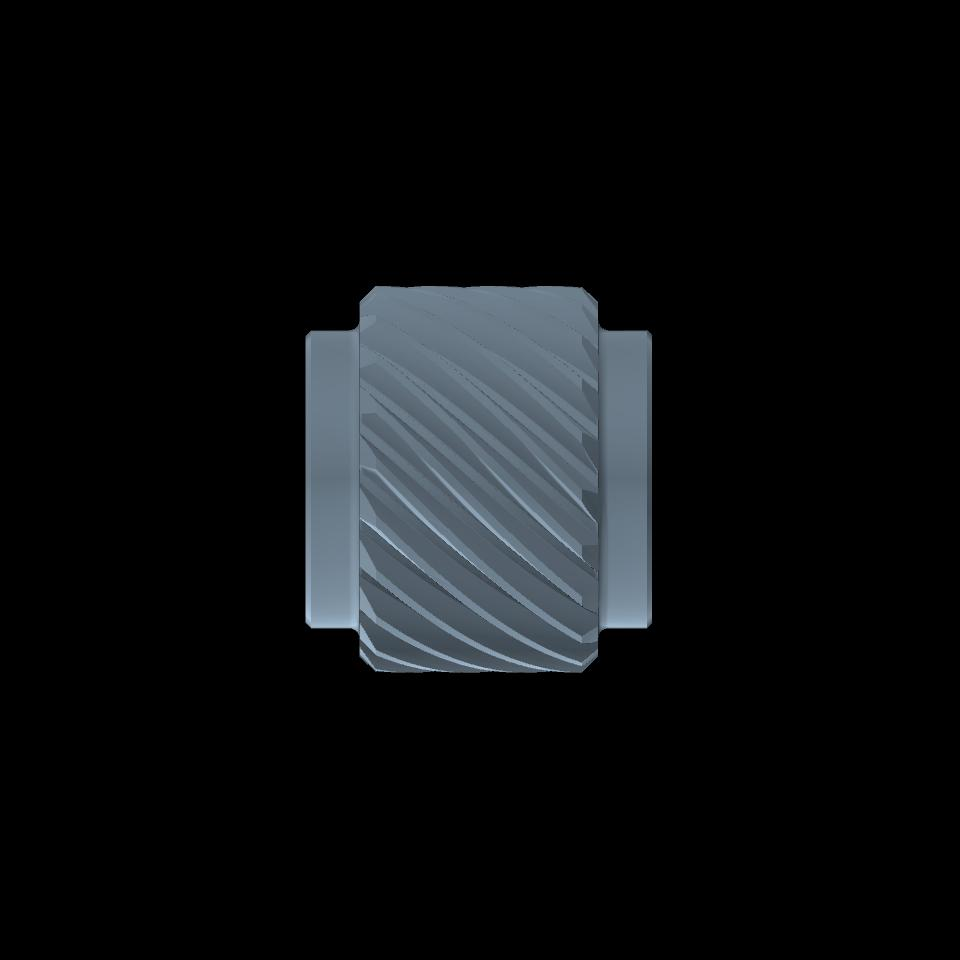Helical: (375, 286, 581, 672)
